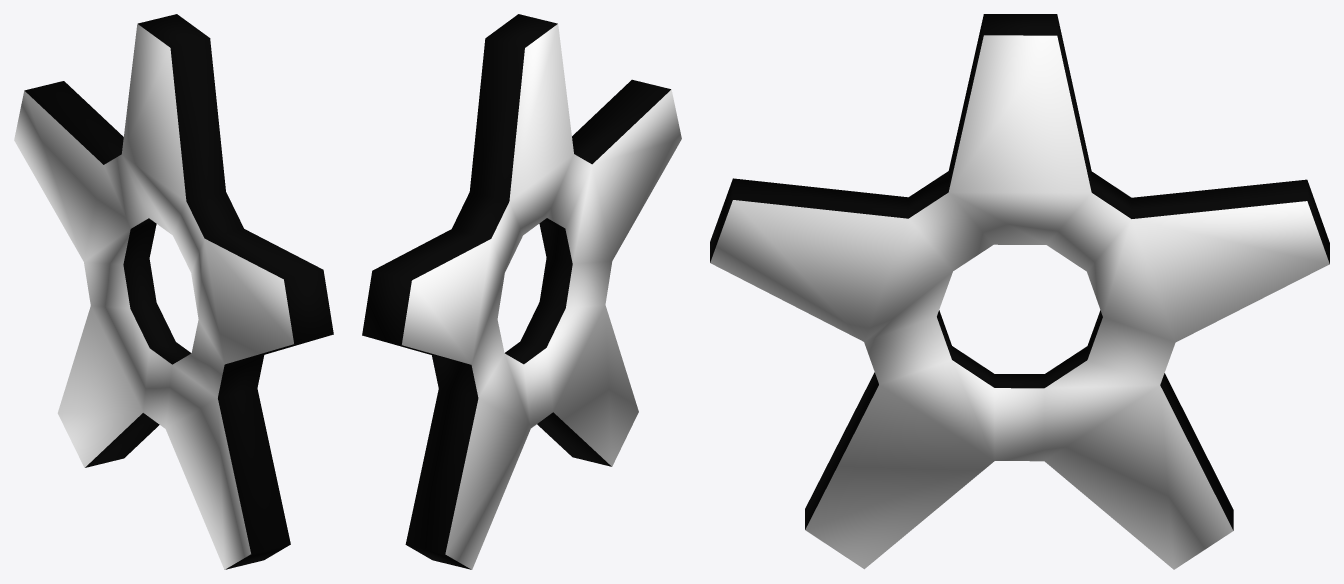
The model's file is HealthSpur.glb.
3 renders of one model, left to right at view 1: azimuth 30°, elevation 25°; view 2: azimuth 150°, elevation 25°; view 3: azimuth 270°, elevation 25°, orthographic. The views are drawn at different scales.
Parts seen in each view (by area): view 1: HealthSpur; view 2: HealthSpur; view 3: HealthSpur.
Part boxes in pixels (<box>): HealthSpur: <box>14,14,333,569</box>; HealthSpur: <box>362,14,681,569</box>; HealthSpur: <box>710,14,1329,569</box>.
Bounding box in the file's own units: 0.0435 × 0.5067 × 0.5324.
Materials: 1 (1 with a texture image).
